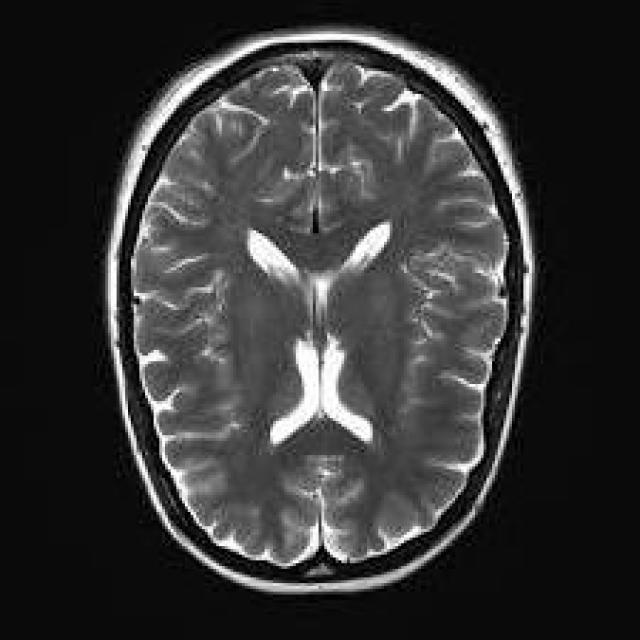notumor: (105, 28, 532, 589)
